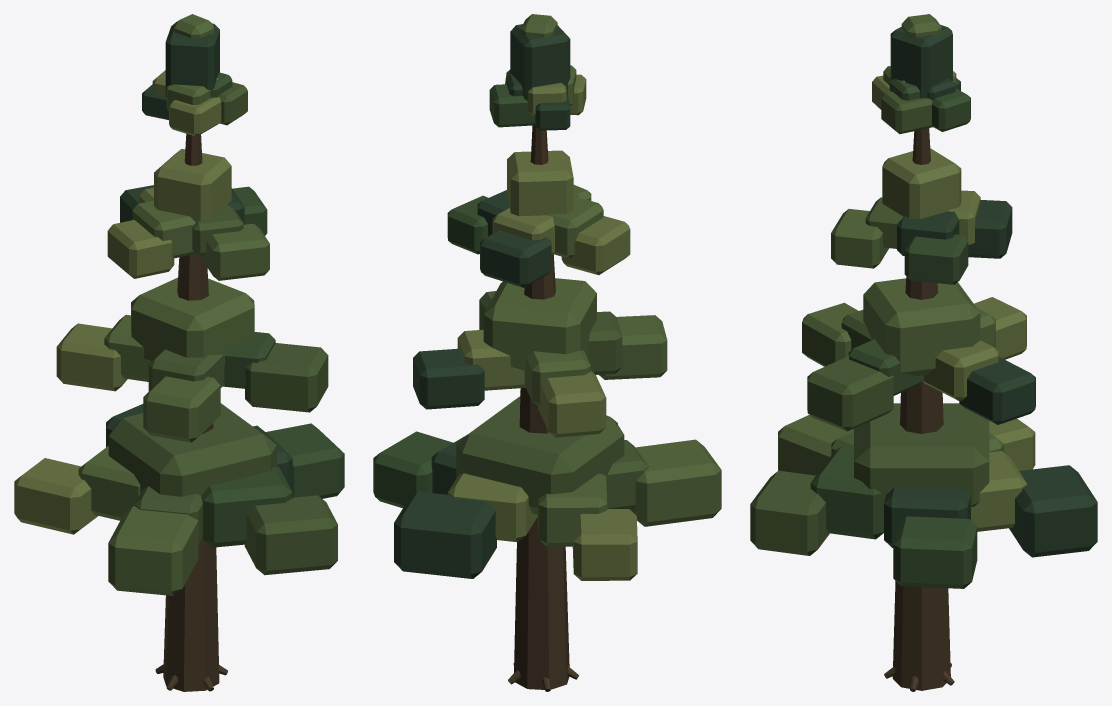
The model's file is pine_sapling.glb.
The picture shows the model from 3 angles, left to right: view 1: azimuth 30°, elevation 25°; view 2: azimuth 150°, elevation 25°; view 3: azimuth 270°, elevation 25°; orthographic projection.
Parts seen in each view (by area): view 1: pine_sapling; view 2: pine_sapling; view 3: pine_sapling.
Boxes of the visible parts, left/top/right/bottom form: pine_sapling: left=14, top=14, right=344, bottom=691; pine_sapling: left=373, top=14, right=721, bottom=691; pine_sapling: left=750, top=14, right=1097, bottom=691.
Bounding box in the file's own units: 3.59 × 8 × 3.82.
